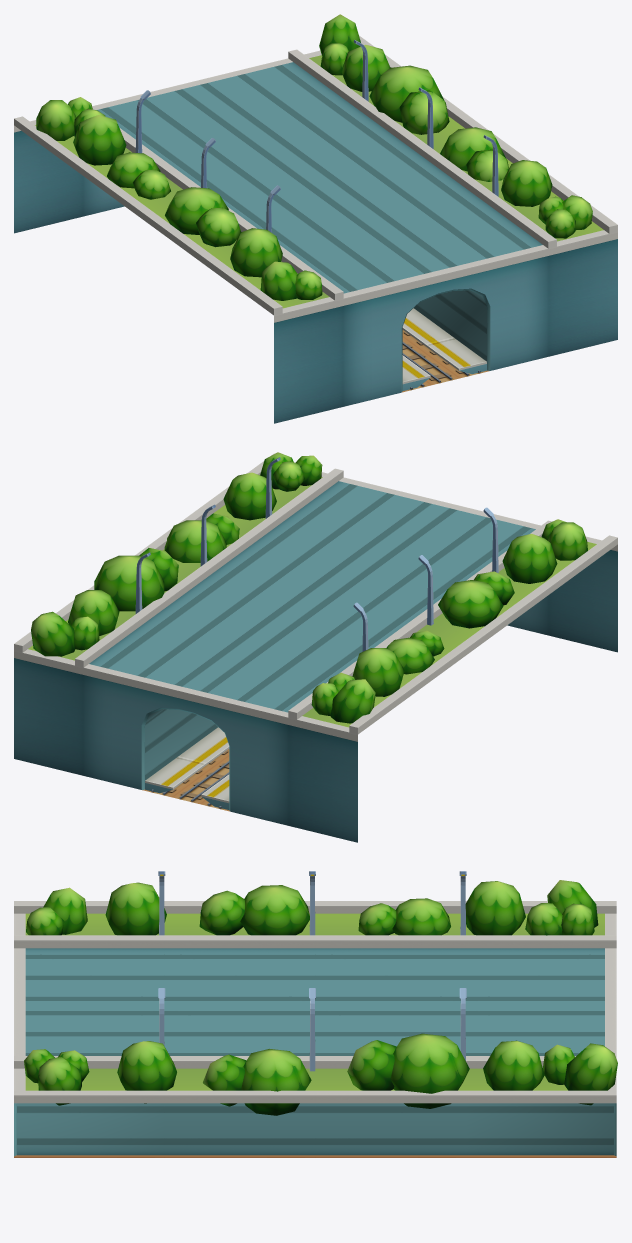
File: Platform01.FBX
The picture shows the model from 3 angles, top to bottom: view 1: azimuth 30°, elevation 25°; view 2: azimuth 150°, elevation 25°; view 3: azimuth 270°, elevation 25°; orthographic projection. The views are drawn at different scales.
Visible parts, largest first — view 1: Tunnel, Plant, Platform (×2), Rail; view 2: Tunnel, Plant, Platform (×2), Rail; view 3: Tunnel, Plant, Rail (×2).
Part boxes in pixels (bbox=[...]): Tunnel: bbox=[14, 35, 617, 423]; Plant: bbox=[36, 14, 592, 300]; Platform (×2): bbox=[402, 308, 486, 390]; Rail: bbox=[402, 330, 489, 392]; Tunnel: bbox=[14, 453, 617, 842]; Plant: bbox=[31, 452, 587, 723]; Platform (×2): bbox=[145, 727, 229, 809]; Rail: bbox=[142, 749, 229, 811]; Tunnel: bbox=[14, 871, 616, 1156]; Plant: bbox=[24, 880, 617, 1115]; Rail (×2): bbox=[14, 1155, 616, 1157].
Size of the model in its own units: 2445 by 1183 by 3207.
